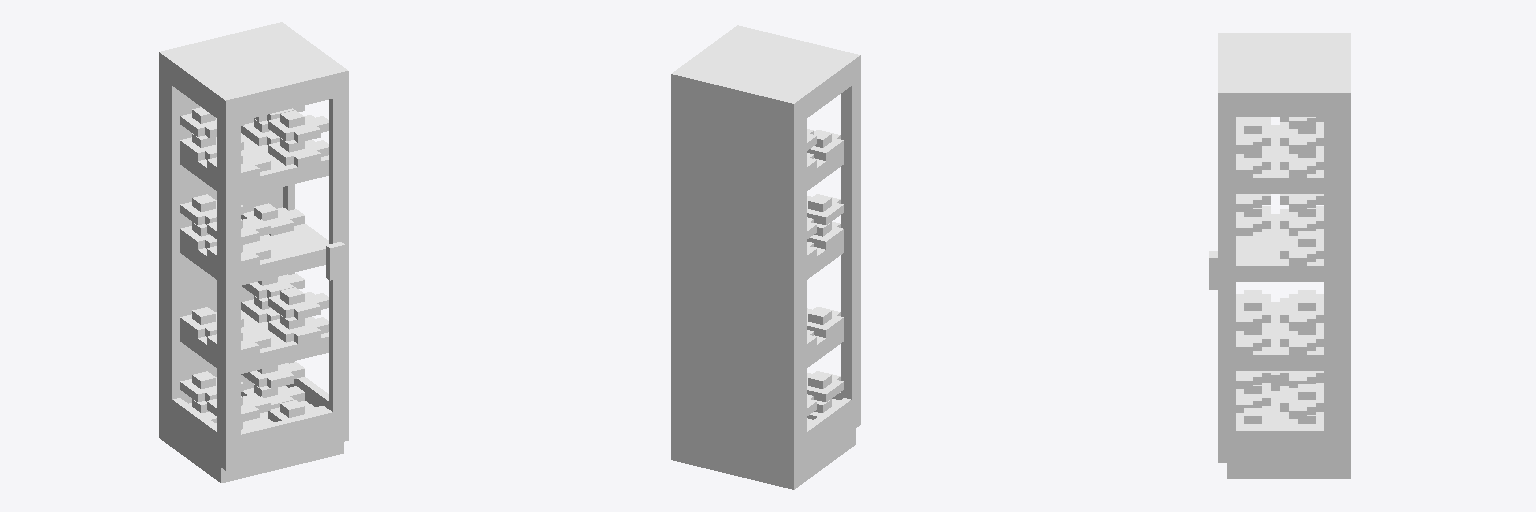
File: fullEggsShelf2.obj
The picture shows the model from 3 angles: view 1: azimuth 30°, elevation 25°; view 2: azimuth 150°, elevation 25°; view 3: azimuth 270°, elevation 25°; orthographic projection.
Parts seen in each view (by area): view 1: object 1; view 2: object 1; view 3: object 1.
Part boxes in pixels (x1,y1,x2,y2): object 1: (159, 22, 348, 482); object 1: (671, 25, 860, 489); object 1: (1209, 33, 1350, 478).
Size of the model in its own units: 1.6 by 4.8 by 1.6.